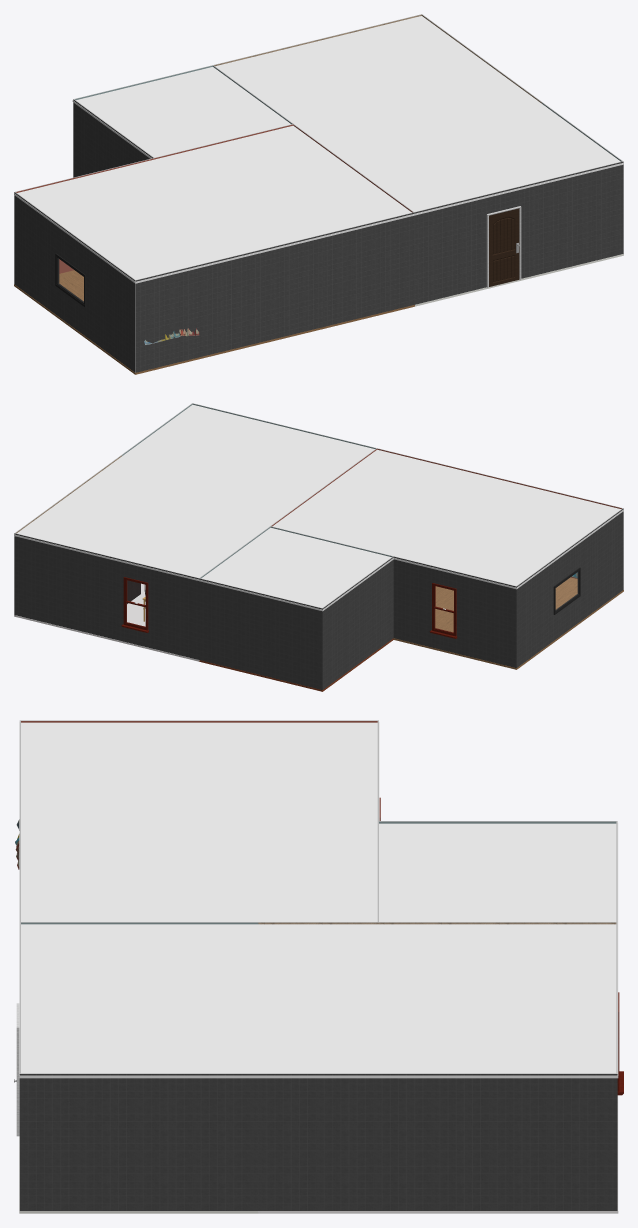
Rendered from ProcTHOR-Train-143.glb.
3 renders of one model, top to bottom at view 1: azimuth 30°, elevation 25°; view 2: azimuth 150°, elevation 25°; view 3: azimuth 270°, elevation 25°, orthographic. The views are drawn at different scales.
Parts seen in each view (by area): view 1: Ceiling#room|4|c, WallInside#wall|exterior|6.21|10.35|14.48|10.35, Ceiling#room|6|c, WallInside#wall|exterior|0.00|10.35|6.21|10.35, Ceiling#room|7|c, Ceiling#room|5|c, WallInside#wall|exterior|14.48|4.14|14.48|10.35, WallInside#wall|exterior|10.35|0.00|10.35|4.14, Doorway_9, Floor#room|4|f, Floor#room|7|f; view 2: Ceiling#room|4|c, Ceiling#room|6|c, WallInside#wall|exterior|0.00|0.00|6.21|0.00, Ceiling#room|7|c, WallInside#wall|exterior|6.21|0.00|10.35|0.00, WallInside#wall|exterior|10.35|4.14|14.48|4.14, Ceiling#room|5|c, WallInside#wall|exterior|14.48|4.14|14.48|10.35, WallInside#wall|exterior|10.35|0.00|10.35|4.14, Floor#room|4|f, Window_Hung_32x60 (×2), Floor#room|6|f (+2 smaller); view 3: Ceiling#room|4|c, Ceiling#room|6|c, WallInside#wall|exterior|0.00|0.00|0.00|6.21, Ceiling#room|7|c, WallInside#wall|exterior|0.00|6.21|0.00|10.35, Ceiling#room|5|c, Floor#room|6|f, WallInside#wall|4|14.48|4.14|14.48|10.35, Floor#room|7|f, WallInside#wall|5|10.35|0.00|10.35|4.14, WallInside#wall|6|6.21|0.00|6.21|4.14, WallInside#wall|7|6.21|6.21|6.21|10.35.
Part boxes in pixels (x1,y1,x2,y2): Ceiling#room|4|c: [14, 126, 414, 283]; WallInside#wall|exterior|6.21|10.35|14.48|10.35: [135, 212, 414, 372]; Ceiling#room|6|c: [215, 16, 541, 154]; WallInside#wall|exterior|0.00|10.35|6.21|10.35: [414, 161, 623, 304]; Ceiling#room|7|c: [335, 104, 623, 215]; Ceiling#room|5|c: [72, 67, 290, 159]; WallInside#wall|exterior|14.48|4.14|14.48|10.35: [14, 192, 135, 372]; WallInside#wall|exterior|10.35|0.00|10.35|4.14: [73, 99, 153, 177]; Doorway_9: [486, 206, 521, 287]; Floor#room|4|f: [14, 270, 414, 374]; Floor#room|7|f: [415, 254, 623, 306]; Ceiling#room|4|c: [272, 450, 623, 589]; Ceiling#room|6|c: [14, 456, 306, 580]; WallInside#wall|exterior|0.00|0.00|6.21|0.00: [14, 533, 199, 659]; Ceiling#room|7|c: [122, 404, 374, 500]; WallInside#wall|exterior|6.21|0.00|10.35|0.00: [199, 578, 322, 689]; WallInside#wall|exterior|10.35|4.14|14.48|4.14: [393, 556, 516, 667]; Ceiling#room|5|c: [198, 528, 393, 611]; WallInside#wall|exterior|14.48|4.14|14.48|10.35: [516, 508, 623, 667]; WallInside#wall|exterior|10.35|0.00|10.35|4.14: [322, 556, 393, 689]; Floor#room|4|f: [393, 577, 623, 669]; Window_Hung_32x60 (×2): [121, 577, 457, 638]; Floor#room|6|f: [14, 583, 199, 661]; Ceiling#room|4|c: [19, 722, 379, 924]; Ceiling#room|6|c: [258, 924, 618, 1078]; WallInside#wall|exterior|0.00|0.00|0.00|6.21: [258, 1073, 617, 1210]; Ceiling#room|7|c: [19, 924, 260, 1078]; WallInside#wall|exterior|0.00|6.21|0.00|10.35: [19, 1073, 259, 1210]; Ceiling#room|5|c: [377, 823, 618, 924]; Floor#room|6|f: [258, 1095, 618, 1213]; WallInside#wall|4|14.48|4.14|14.48|10.35: [20, 720, 378, 722]; Floor#room|7|f: [19, 1136, 260, 1213]; WallInside#wall|5|10.35|0.00|10.35|4.14: [379, 821, 617, 823]; WallInside#wall|6|6.21|0.00|6.21|4.14: [378, 922, 616, 924]; WallInside#wall|7|6.21|6.21|6.21|10.35: [21, 922, 258, 924].
Size of what is drawn, in the model's own units: 14.54 by 2.68 by 10.58.
272 materials, 132 textured.
